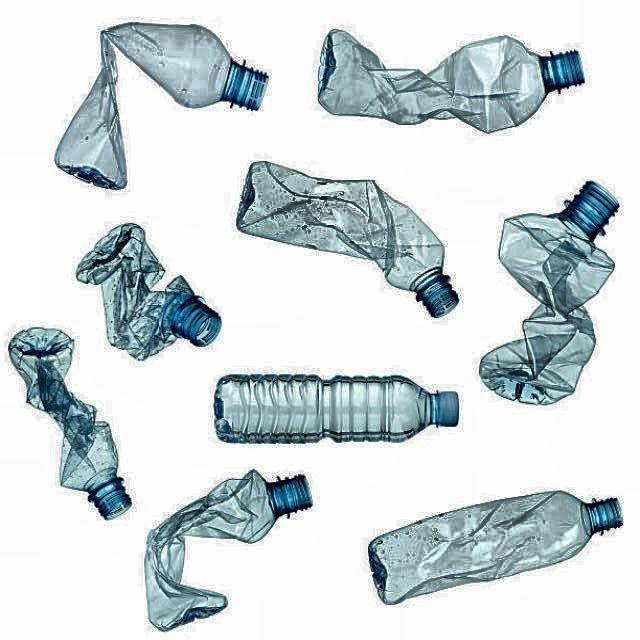plastic: (55, 22, 268, 188), (236, 161, 459, 317), (480, 181, 619, 404), (369, 491, 621, 604), (319, 30, 582, 131), (145, 471, 310, 629), (9, 328, 130, 518), (76, 224, 220, 359), (215, 375, 459, 442)
